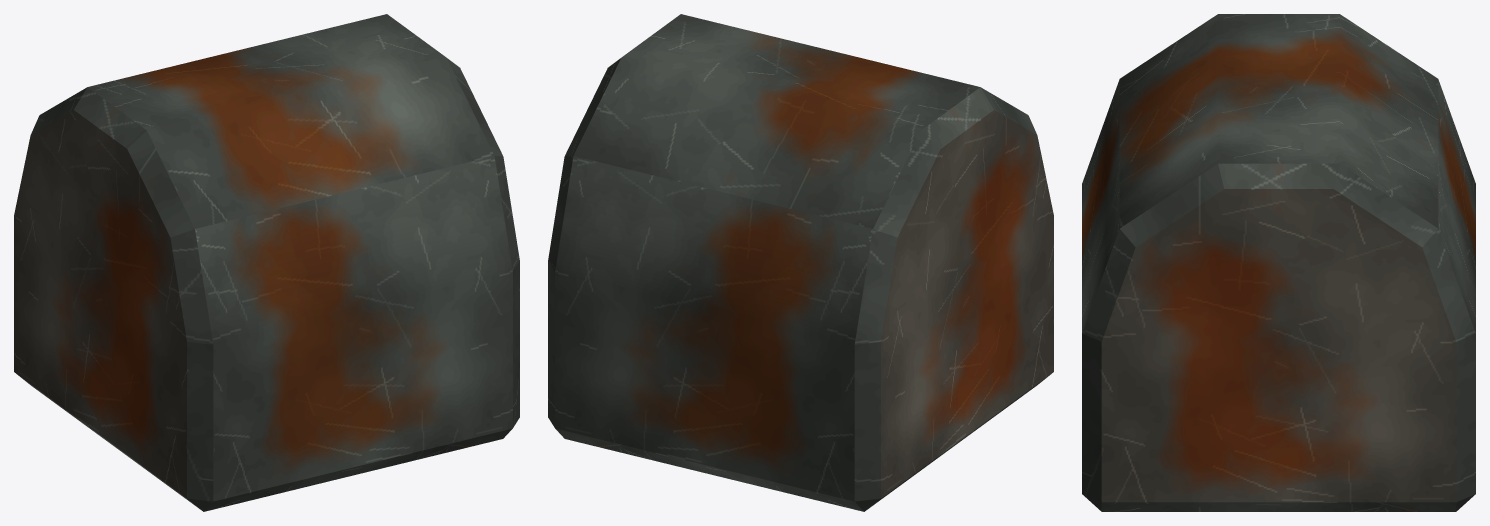
File: R4B_RoundTop_LOD1.glb
The picture shows the model from 3 angles, left to right: view 1: azimuth 30°, elevation 25°; view 2: azimuth 150°, elevation 25°; view 3: azimuth 270°, elevation 25°; orthographic projection. The views are drawn at different scales.
Parts seen in each view (by area): view 1: R4B_RoundTop_LOD1; view 2: R4B_RoundTop_LOD1; view 3: R4B_RoundTop_LOD1.
Part boxes in pixels (x1,y1,x2,y2): R4B_RoundTop_LOD1: (14, 14, 519, 511); R4B_RoundTop_LOD1: (548, 14, 1053, 511); R4B_RoundTop_LOD1: (1082, 14, 1475, 511).
Bounding box in the file's own units: 0.52 × 0.5073 × 0.52.
Materials: 2 (2 with a texture image).
